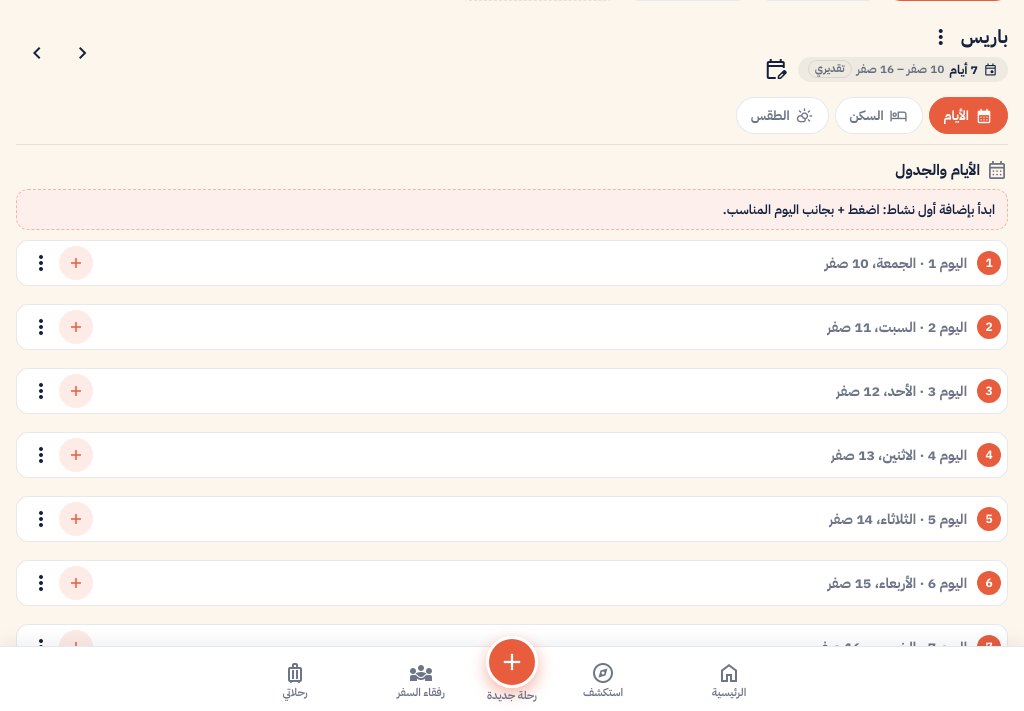
Test: US-006 Itinerary dashboard › splits the trip days across undated stops and keeps empty days compact
The image size is (1024, 711).
(page scrolled)
Expected: the heading "باريس" is shown, [961,23,1008,51]
Expected: the text "تقديري" is shown, [808,60,852,78]
Click the button "2 اليوم 2 · السبت، 11 صفر": (899,327) [97,309,1001,345]
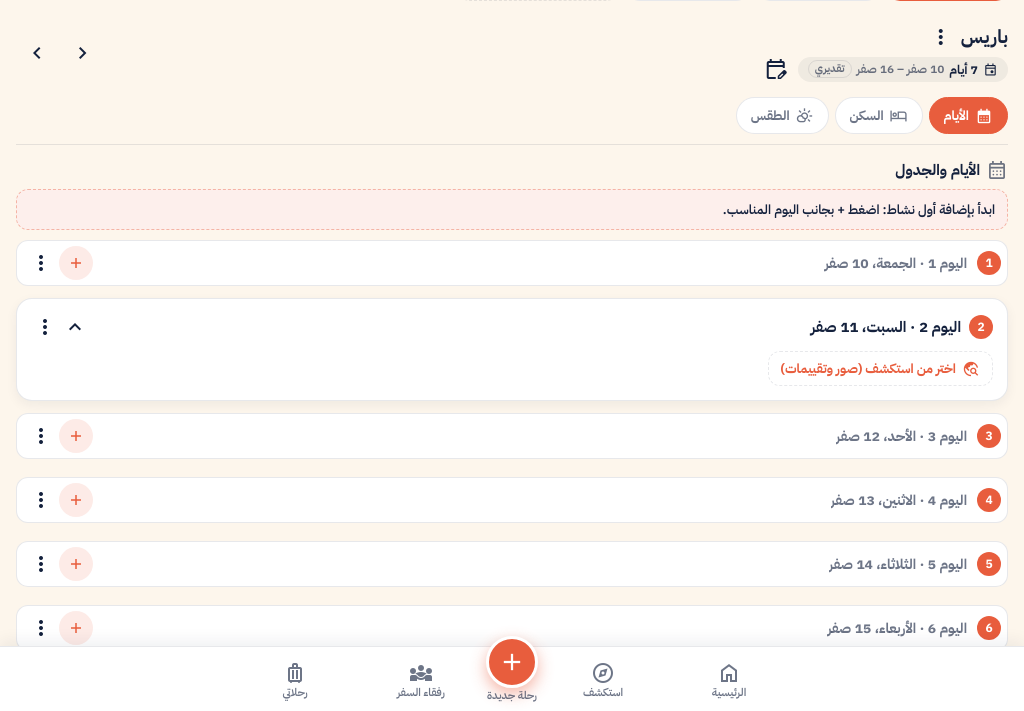
Click the button named "طيّ اليوم": (75,327) [61,313,89,341]
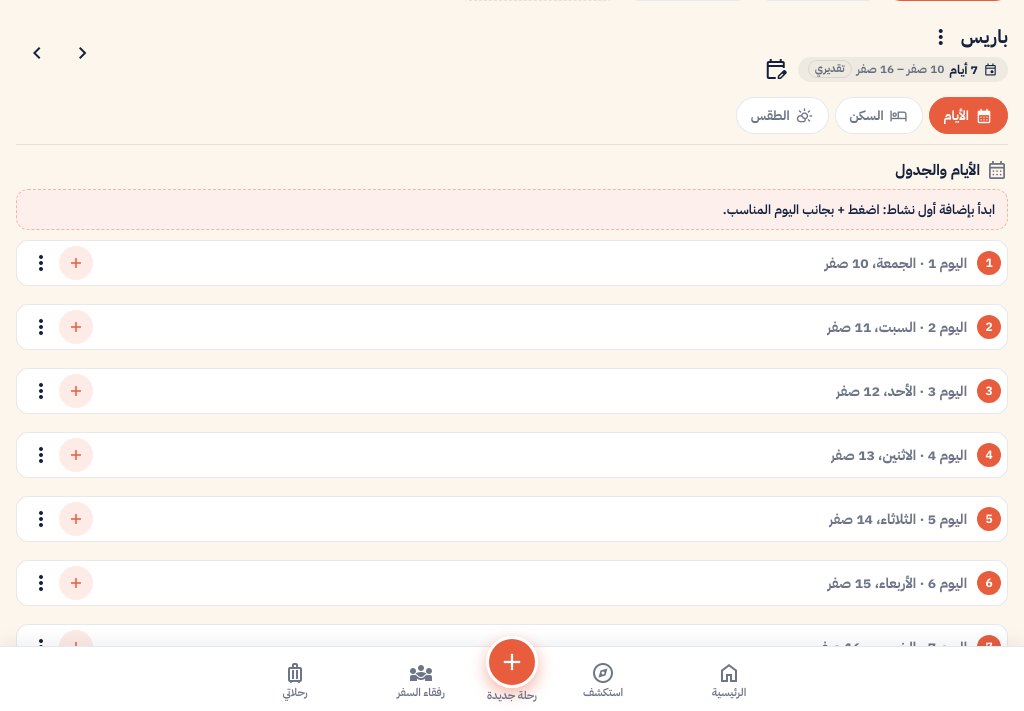
Expected: the button "حذف اليوم" is not shown
Click the 1st button named "خيارات اليوم": (41,263) [27,249,55,277]
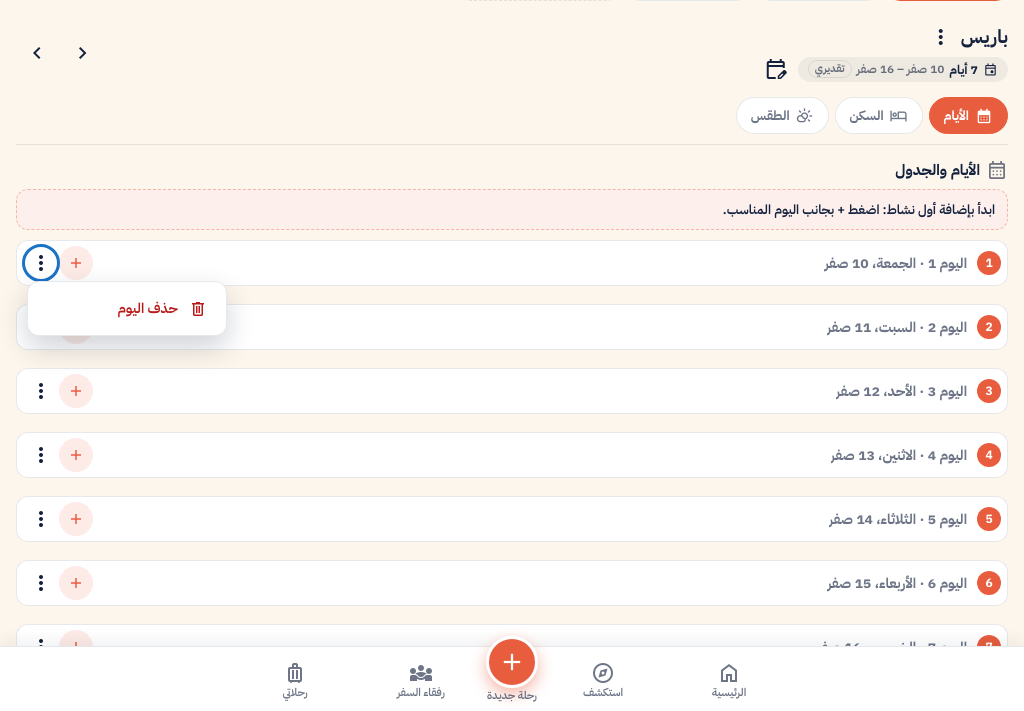
Click the menu item "حذف اليوم": (127,308) [34,288,220,329]
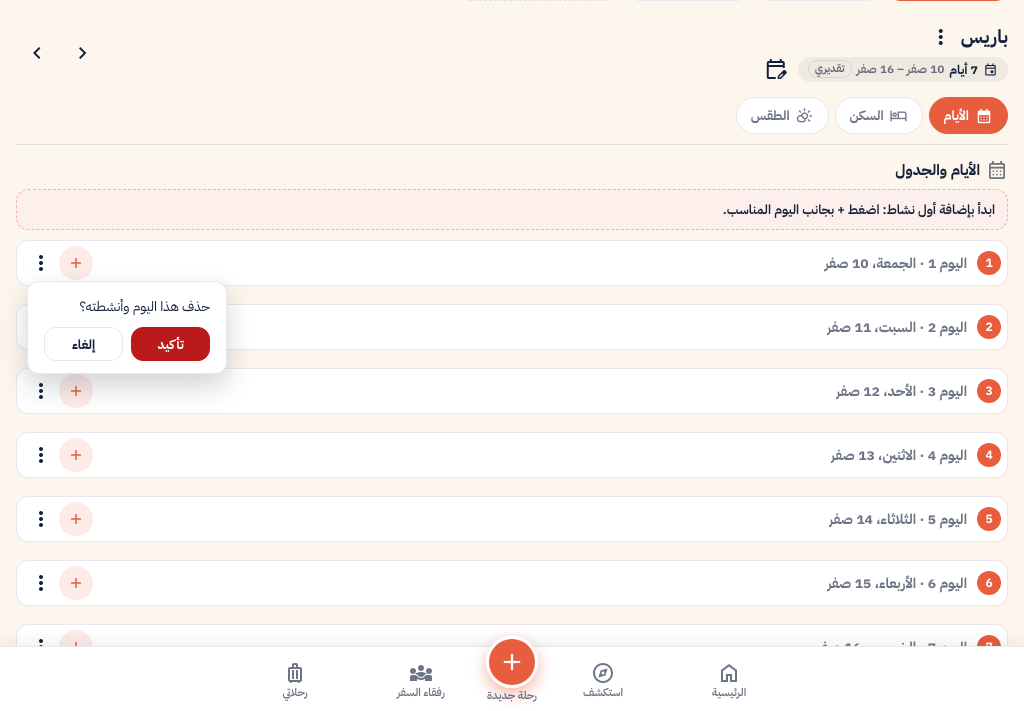
Click the button "تأكيد": (170,344) [131,327,210,361]
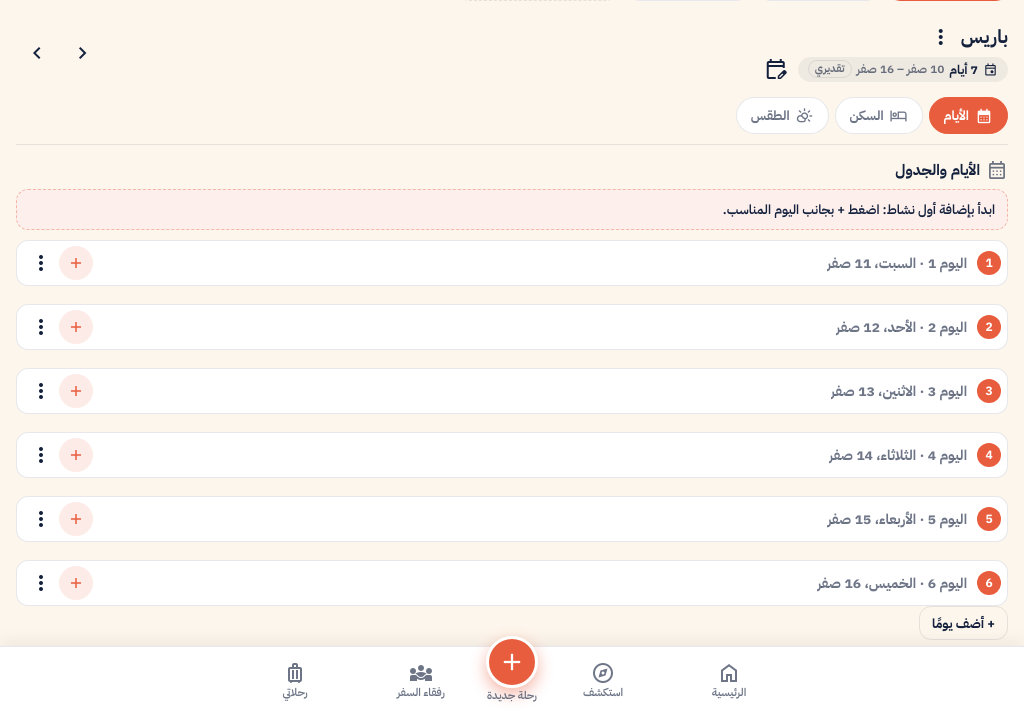
Expected: the number of list items with class "bp-day-card" is 6, [16,240,1008,286]; [16,304,1008,350]; [16,368,1008,414]; [16,432,1008,478]; [16,496,1008,542]; [16,560,1008,606]
